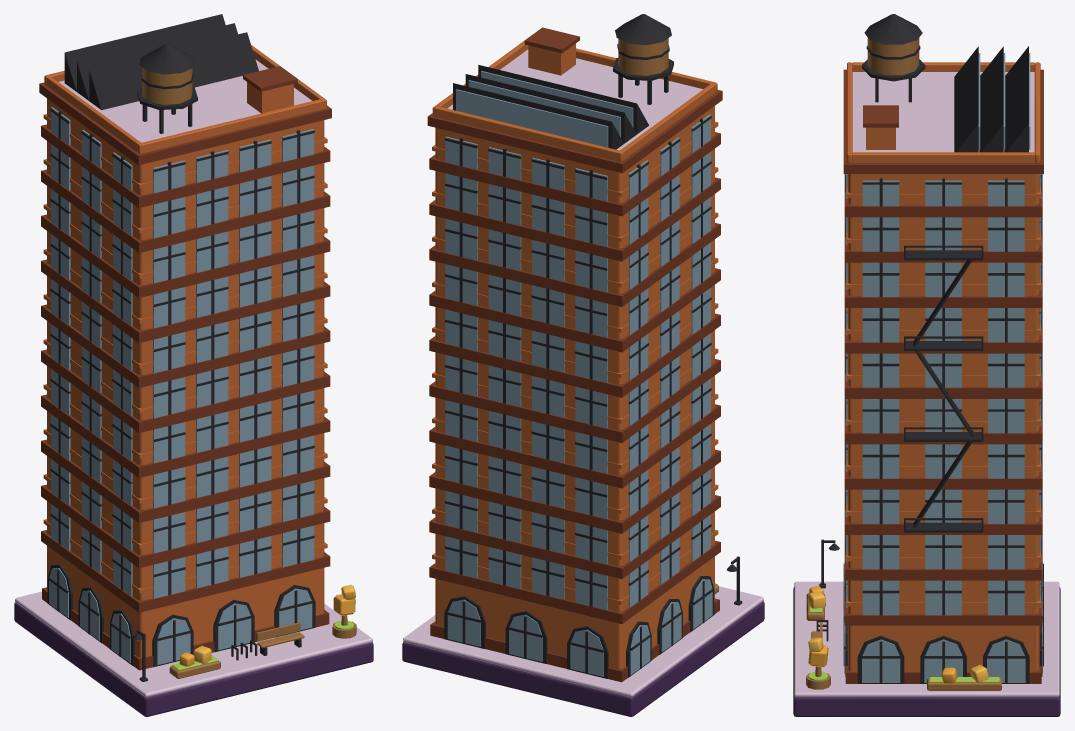
Rendered from modern_building_2_2Level_Demo.glb.
3 renders of one model, left to right at view 1: azimuth 30°, elevation 25°; view 2: azimuth 150°, elevation 25°; view 3: azimuth 270°, elevation 25°, orthographic.
Parts seen in each view (by area): view 1: MB2_2_Glass2, MB2_2_Brick2, MB2_2_Umber2, MB2_2_Steel2, MB2_2_Paving, MB2_2_Base, MB2_2_Timber2, MB2_2_Leaf; view 2: MB2_2_Glass2, MB2_2_Brick2, MB2_2_Umber2, MB2_2_Steel2, MB2_2_Paving, MB2_2_Base, MB2_2_Timber2; view 3: MB2_2_Glass2, MB2_2_Brick2, MB2_2_Umber2, MB2_2_Steel2, MB2_2_Paving, MB2_2_Base, MB2_2_Timber2, MB2_2_Leaf2, MB2_2_Leaf, MB2_2_Grass.
Part boxes in pixels (left/top/right/bottom): MB2_2_Glass2: left=49, top=107, right=314, bottom=664; MB2_2_Brick2: left=43, top=45, right=327, bottom=657; MB2_2_Umber2: left=39, top=66, right=331, bottom=670; MB2_2_Steel2: left=47, top=14, right=315, bottom=681; MB2_2_Paving: left=15, top=59, right=372, bottom=697; MB2_2_Base: left=14, top=602, right=373, bottom=716; MB2_2_Timber2: left=142, top=67, right=356, bottom=678; MB2_2_Leaf: left=179, top=594, right=355, bottom=666; MB2_2_Glass2: left=445, top=71, right=712, bottom=676; MB2_2_Brick2: left=432, top=40, right=718, bottom=669; MB2_2_Umber2: left=427, top=27, right=722, bottom=682; MB2_2_Steel2: left=444, top=14, right=742, bottom=678; MB2_2_Paving: left=403, top=49, right=763, bottom=697; MB2_2_Base: left=402, top=601, right=764, bottom=716; MB2_2_Timber2: left=618, top=38, right=718, bottom=593; MB2_2_Glass2: left=844, top=53, right=1042, bottom=682; MB2_2_Brick2: left=847, top=62, right=1040, bottom=671; MB2_2_Umber2: left=843, top=69, right=1043, bottom=683; MB2_2_Steel2: left=816, top=14, right=1043, bottom=683; MB2_2_Paving: left=794, top=72, right=1059, bottom=697; MB2_2_Base: left=793, top=587, right=1060, bottom=716; MB2_2_Timber2: left=806, top=37, right=1001, bottom=690; MB2_2_Leaf2: left=808, top=591, right=988, bottom=682; MB2_2_Leaf: left=808, top=586, right=957, bottom=683; MB2_2_Grass: left=808, top=606, right=999, bottom=682.
Size of the model in its own units: 3.2 by 8.27 by 3.2.
